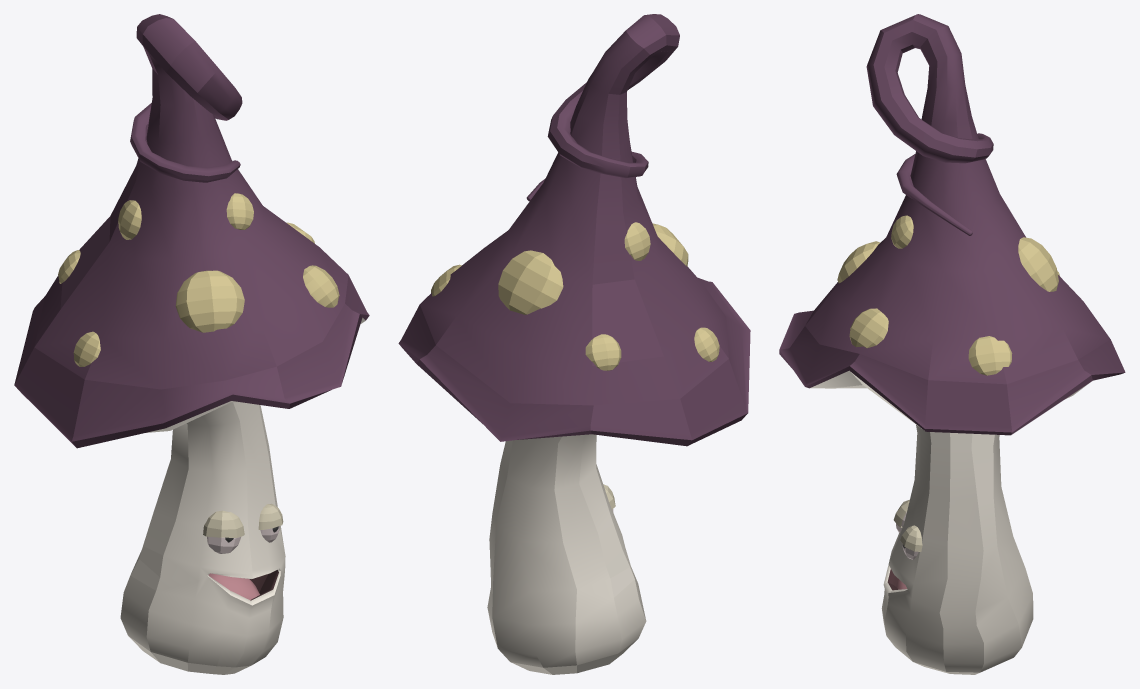
File: mushroom_02.fbx
3 views of the same model, side by side, from view 1: azimuth 30°, elevation 25°; view 2: azimuth 150°, elevation 25°; view 3: azimuth 270°, elevation 25° (orthographic). The views are drawn at different scales.
Visible parts, largest first — view 1: polySurface37; view 2: polySurface37; view 3: polySurface37.
Part boxes in pixels (x1,y1,x2,y2): polySurface37: (14,14,369,674); polySurface37: (398,14,750,674); polySurface37: (779,14,1125,674).
Size of the model in its own units: 4.87 by 10.22 by 5.19.
